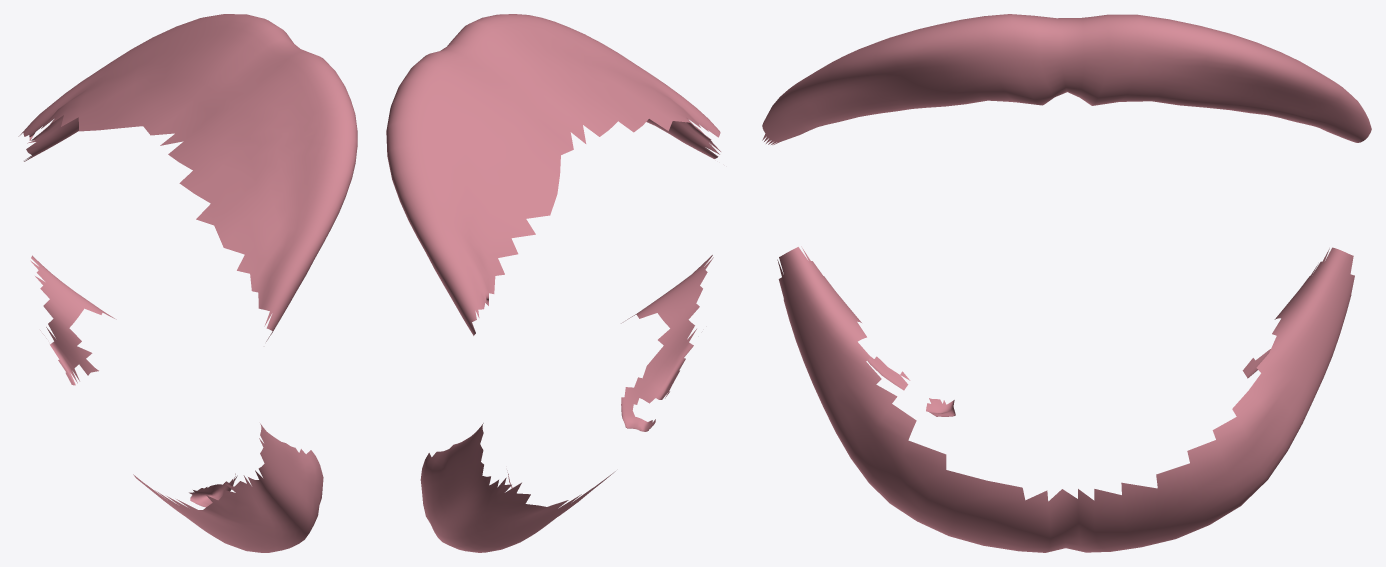
The model's file is realistic-open-mouth-lips-clean.glb.
The picture shows the model from 3 angles, left to right: view 1: azimuth 30°, elevation 25°; view 2: azimuth 150°, elevation 25°; view 3: azimuth 270°, elevation 25°; orthographic projection. The views are drawn at different scales.
Visible parts, largest first — view 1: lips-clean; view 2: lips-clean; view 3: lips-clean.
Boxes of the visible parts, x1=… form: lips-clean: x1=18, y1=14, x2=357, y2=552; lips-clean: x1=386, y1=14, x2=720, y2=552; lips-clean: x1=762, y1=14, x2=1371, y2=552.
Size of the model in its own units: 0.3661 by 0.9483 by 0.9184.
